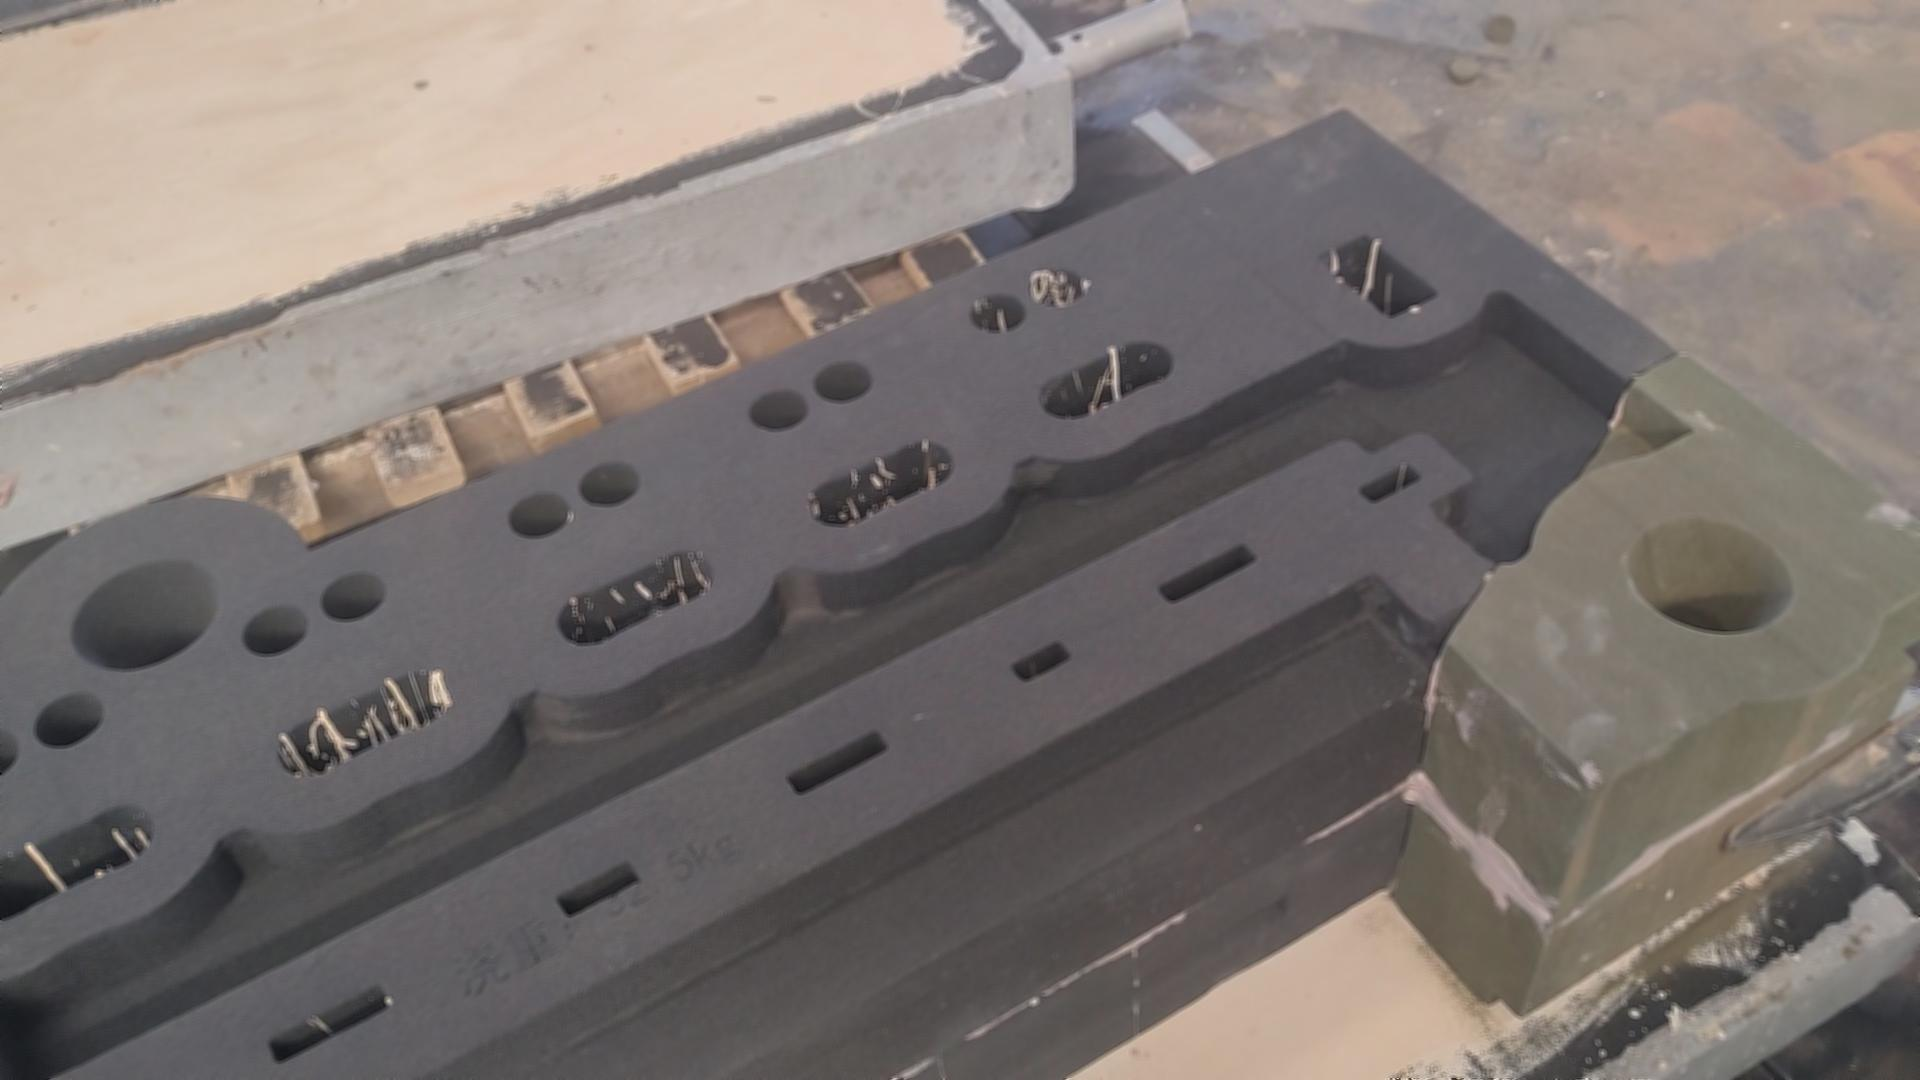pouring hole: (1629, 517, 1792, 634), (71, 560, 218, 670)
